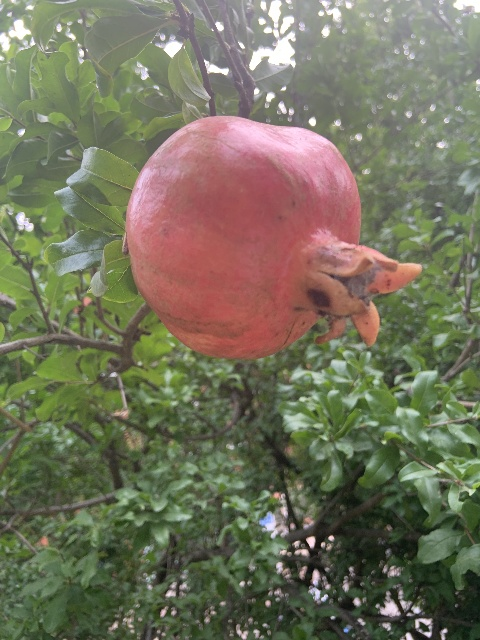ripe: (122, 115, 422, 358)
